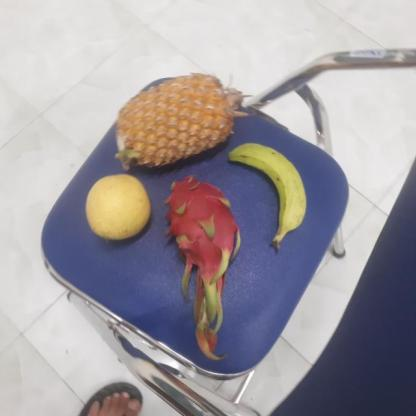banana: (225, 142, 307, 239)
pear: (81, 175, 151, 242)
pineapple: (111, 73, 235, 175)
pitaya: (158, 176, 242, 274)
